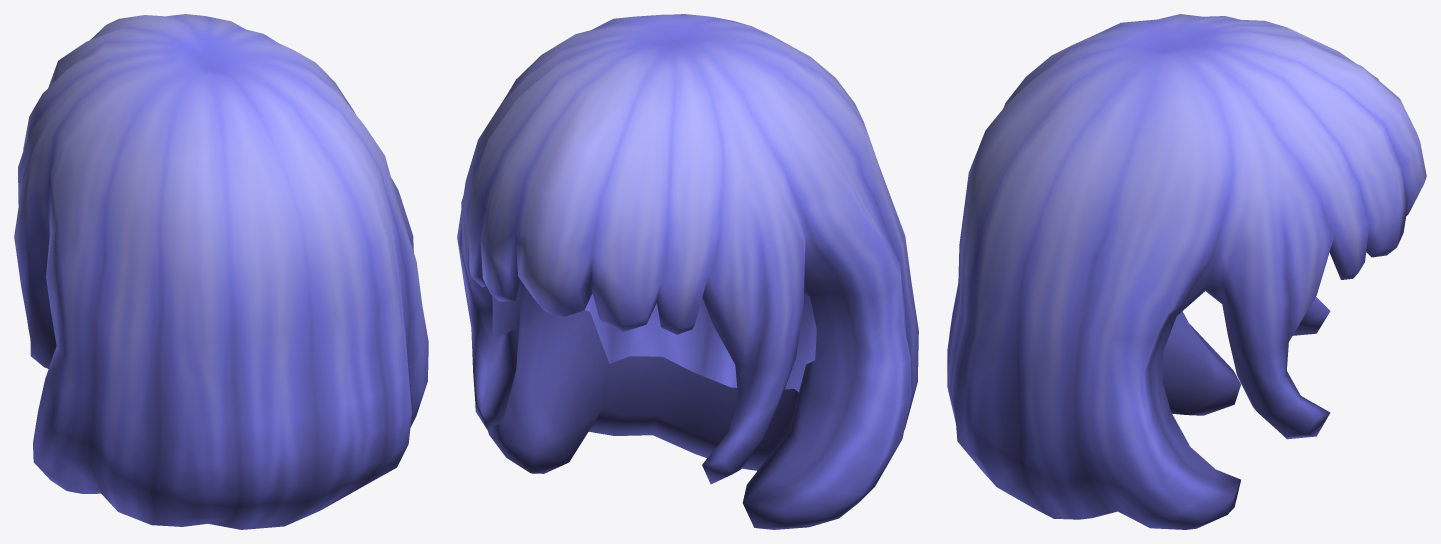
File: Hair_Female_001_textured_sky.glb
3 renders of one model, left to right at view 1: azimuth 30°, elevation 25°; view 2: azimuth 150°, elevation 25°; view 3: azimuth 270°, elevation 25°, orthographic. The views are drawn at different scales.
Parts seen in each view (by area): view 1: Hair_Female_001; view 2: Hair_Female_001; view 3: Hair_Female_001.
Boxes of the visible parts, <box> form: Hair_Female_001: <box>14,14,428,529</box>; Hair_Female_001: <box>457,14,918,529</box>; Hair_Female_001: <box>947,14,1426,529</box>.
Size of the model in its own units: 0.2205 by 0.2446 by 0.236.
1 material, 1 textured.
